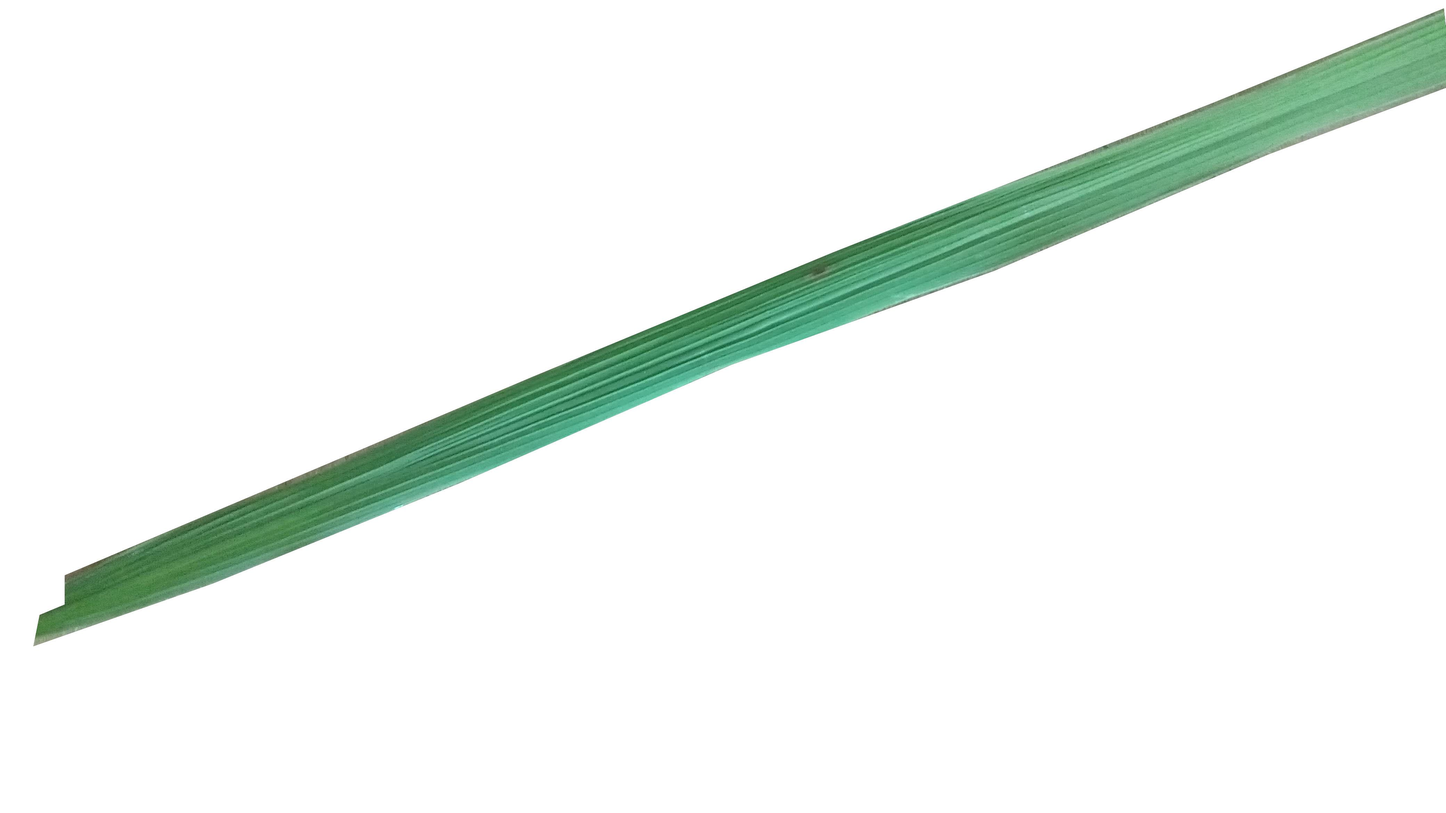Brown spot: (794, 257, 836, 285)
